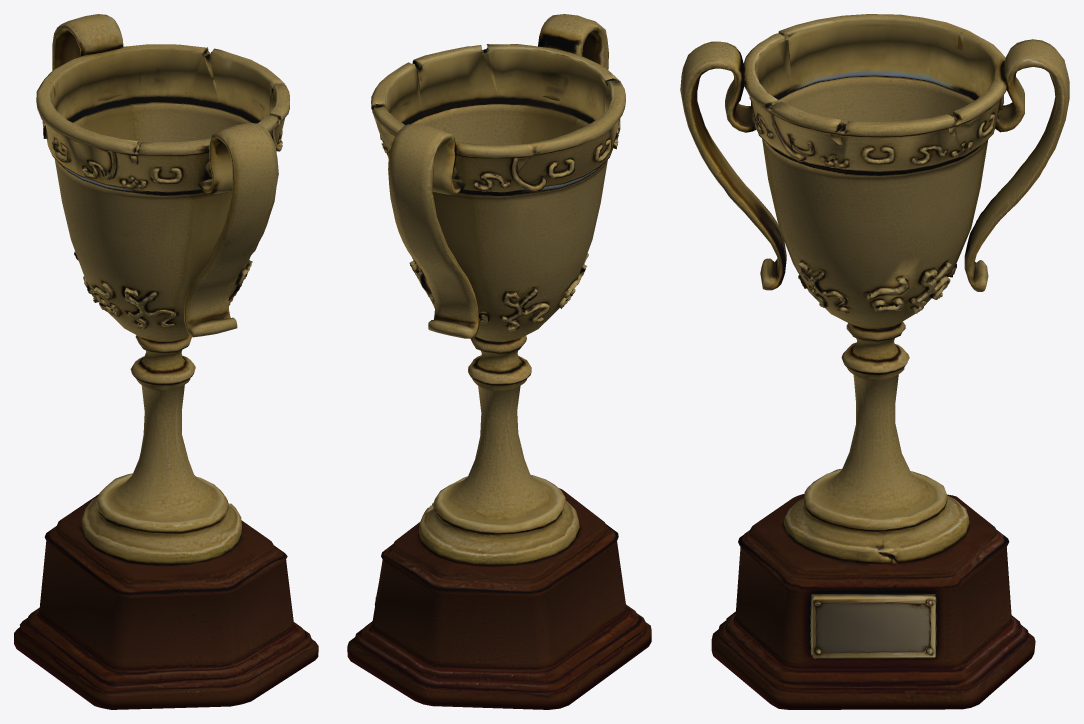
The picture shows the model from 3 angles, left to right: view 1: azimuth 30°, elevation 25°; view 2: azimuth 150°, elevation 25°; view 3: azimuth 270°, elevation 25°; orthographic projection. The views are drawn at different scales.
Visible parts, largest first — view 1: tripo_node_432cfa29-2ac8-4b99-aad0-6e8ffd4e0939; view 2: tripo_node_432cfa29-2ac8-4b99-aad0-6e8ffd4e0939; view 3: tripo_node_432cfa29-2ac8-4b99-aad0-6e8ffd4e0939.
Part boxes in pixels (x1,y1,x2,y2): tripo_node_432cfa29-2ac8-4b99-aad0-6e8ffd4e0939: (14,14,318,709); tripo_node_432cfa29-2ac8-4b99-aad0-6e8ffd4e0939: (347,14,651,709); tripo_node_432cfa29-2ac8-4b99-aad0-6e8ffd4e0939: (680,14,1069,709).
Size of the model in its own units: 0.4004 by 0.998 by 0.5801.
Materials: 1 (1 with a texture image).
